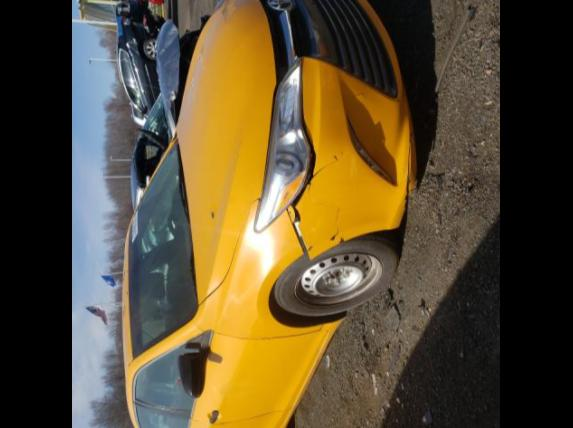Broken part: (282, 0, 417, 260)
Dent: (210, 0, 246, 20)
Paint chip: (297, 128, 320, 200), (314, 154, 346, 178), (330, 226, 346, 244), (208, 206, 220, 222), (306, 242, 316, 250)
